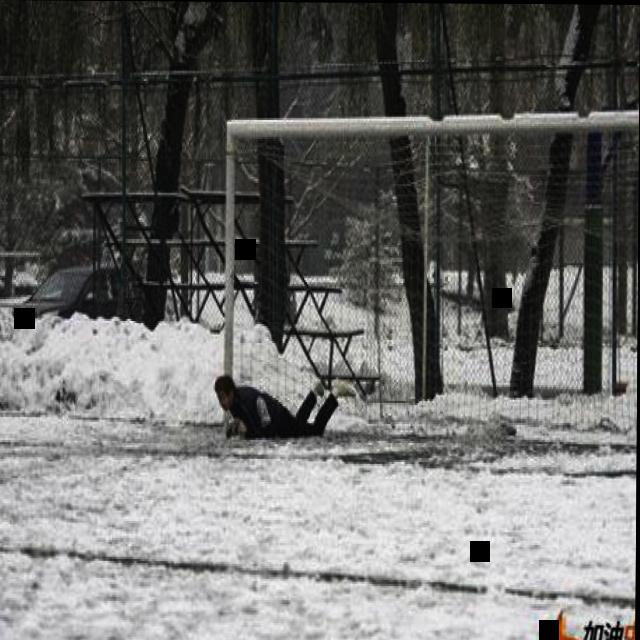Fall-Detected: (202, 355, 344, 446)
